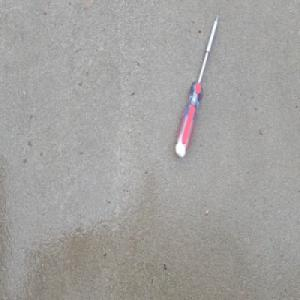Screwdriver: (174, 10, 220, 159)
